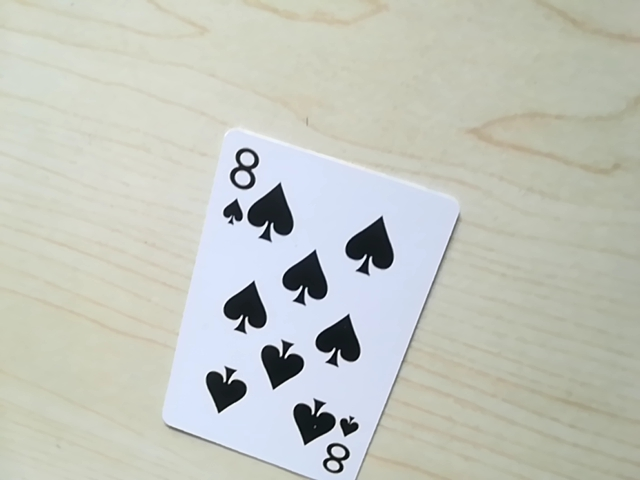ht 8: (211, 135, 275, 231), (312, 420, 358, 478)
